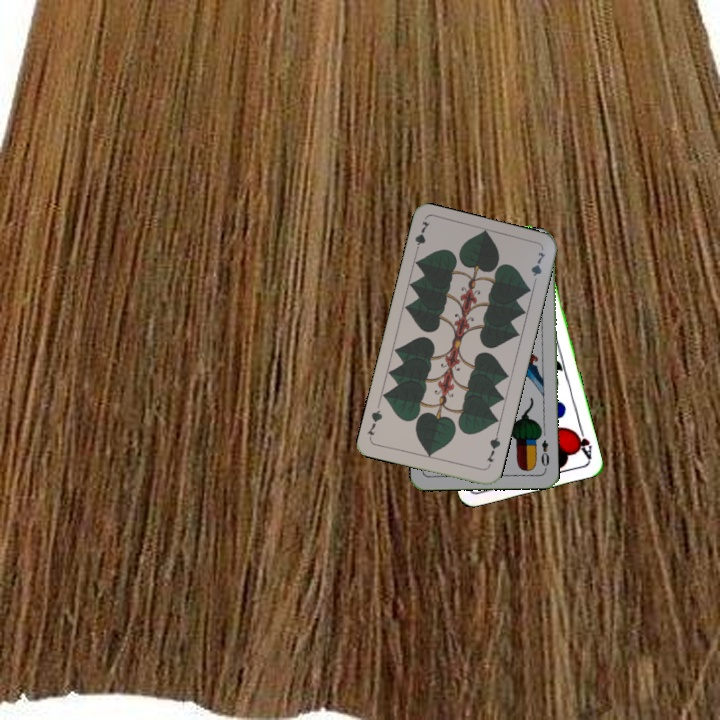EO: (537, 436, 552, 472)
G7: (411, 217, 432, 257), (483, 430, 503, 465)
HA: (570, 421, 594, 461)
